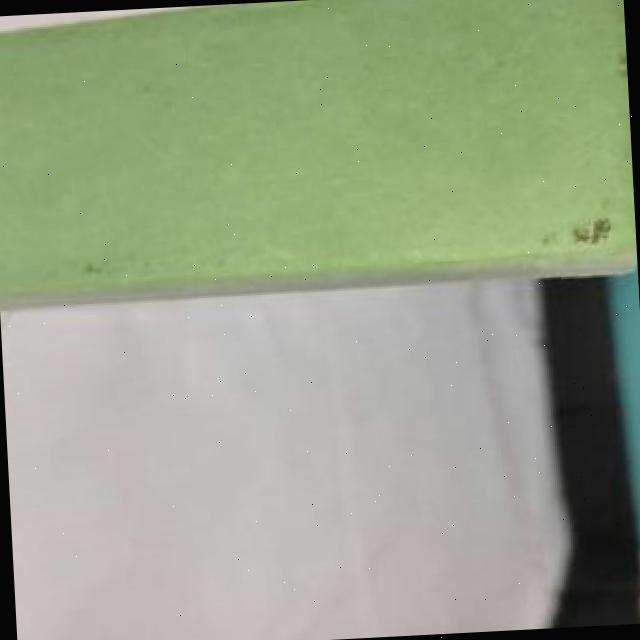greenbox: (0, 0, 638, 306)
